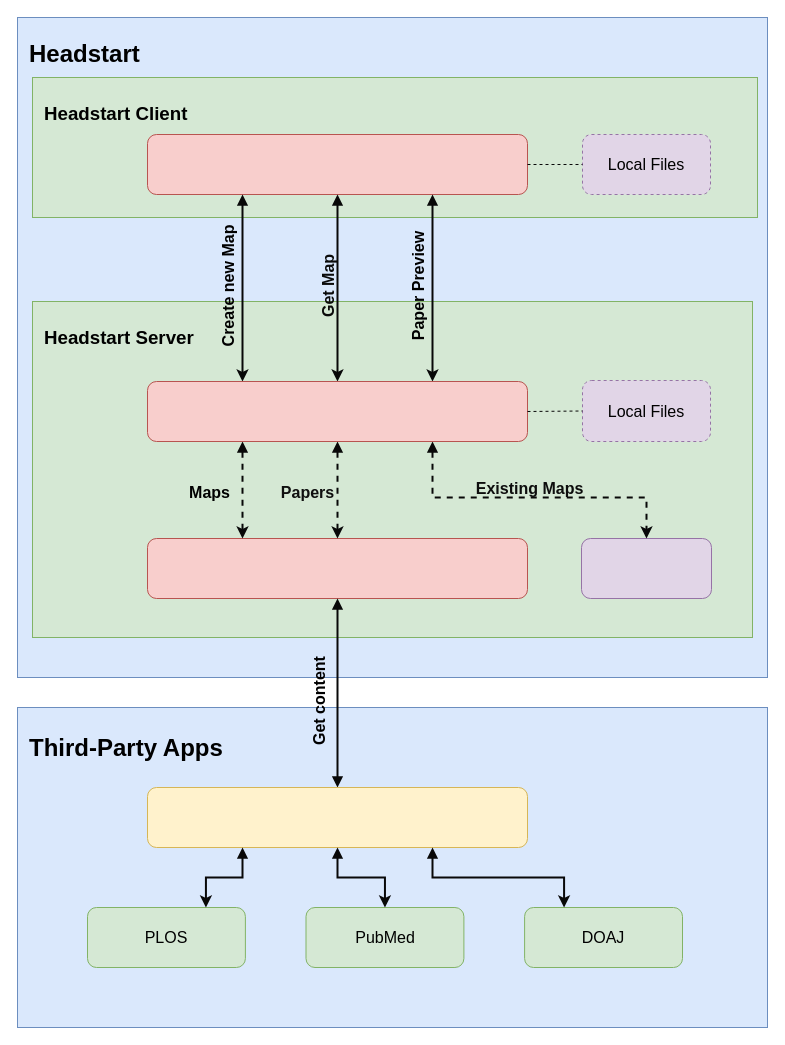
The diagram is 785 pixels wide and 1045 high, and some of its shapes have lost their labels. The shapes that lost their labels are listed below. From the top down, each one's centre as x and y in pixels, then its label:
At pixel 337 164: "Headstart Frontend".
At pixel 337 411: "Headstart API / php-scripts".
At pixel 337 568: "PHP/R Backend".
At pixel 646 568: "Database".
At pixel 337 817: "rOpenSci".
